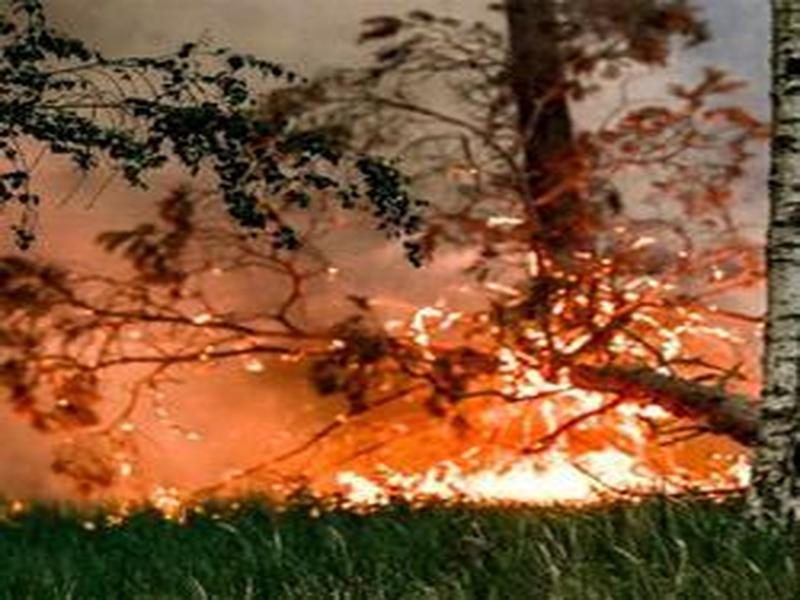FIRE: (69, 349, 769, 575)
